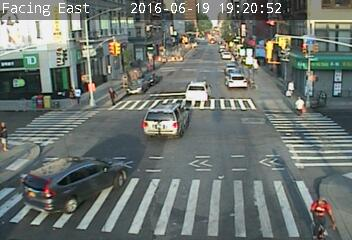neg: (303, 192, 338, 239), (245, 68, 259, 85), (116, 71, 130, 88), (148, 54, 160, 70), (270, 63, 279, 75)
pos: (290, 94, 307, 117), (103, 84, 119, 106), (67, 84, 83, 105), (285, 78, 299, 97)
